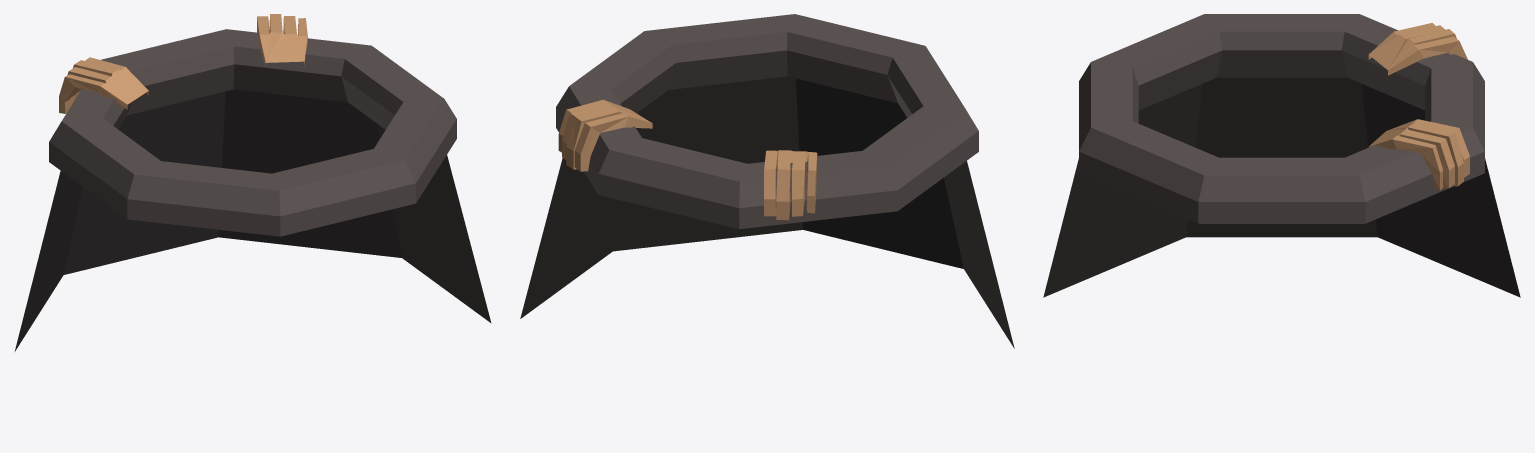
File: npc_chat_anabarrel_1.obj
3 views of the same model, side by side, from view 1: azimuth 30°, elevation 25°; view 2: azimuth 150°, elevation 25°; view 3: azimuth 270°, elevation 25° (orthographic). The views are drawn at different scales.
Bounding box in the file's own units: 2.5 × 1.48 × 2.5.
